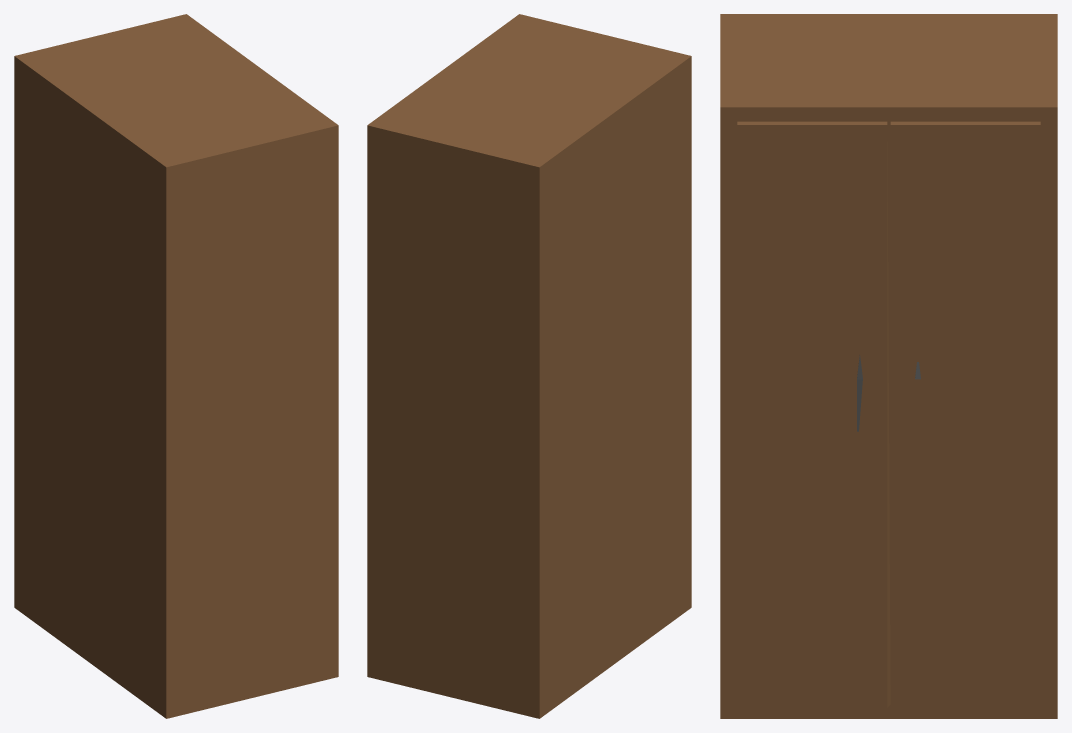
The model's file is locker-tall.lod2.glb.
3 views of the same model, side by side, from view 1: azimuth 30°, elevation 25°; view 2: azimuth 150°, elevation 25°; view 3: azimuth 270°, elevation 25° (orthographic). The views are drawn at different scales.
Parts seen in each view (by area): view 1: armario.001_madeira.001_0; view 2: armario.001_madeira.001_0; view 3: armario.001_madeira.001_0.
Part boxes in pixels (x1,y1,x2,y2): armario.001_madeira.001_0: [14, 14, 338, 718]; armario.001_madeira.001_0: [367, 14, 691, 718]; armario.001_madeira.001_0: [720, 14, 1057, 718].
Size of the model in its own units: 0.7502 by 2.2 by 1.1.
